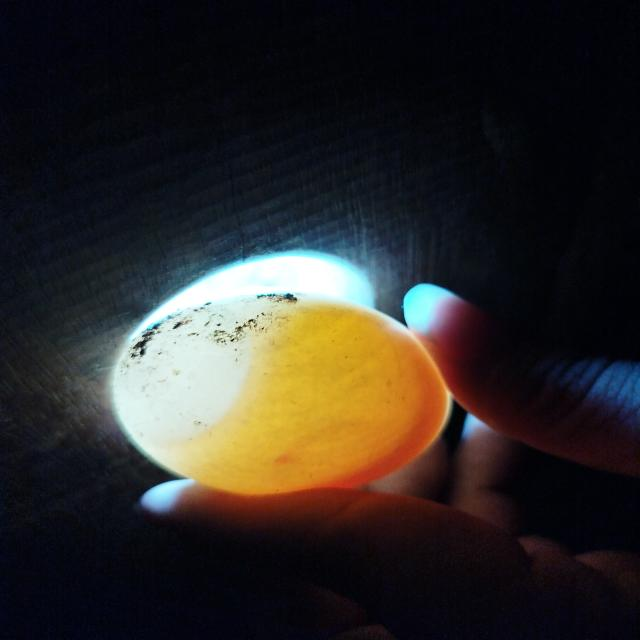Camara de Ar: (112, 301, 256, 441)
Gema Quebrada: (307, 325, 445, 491)
